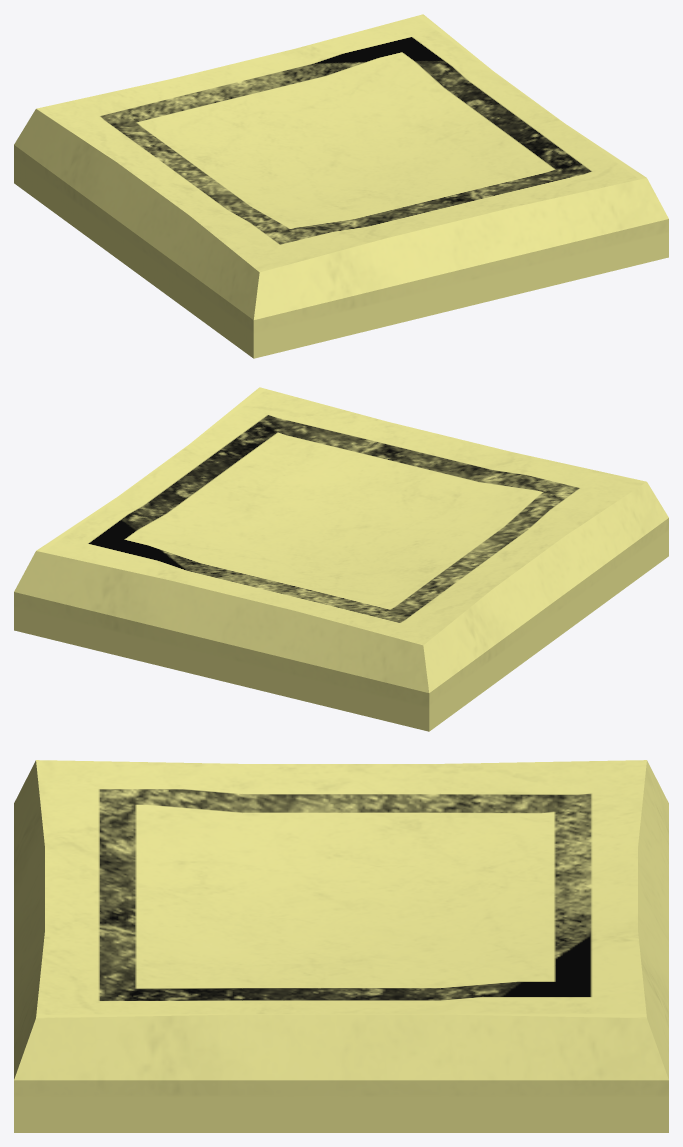
File: SM_ControlPanelButton1.FBX
3 renders of one model, top to bottom at view 1: azimuth 30°, elevation 25°; view 2: azimuth 150°, elevation 25°; view 3: azimuth 270°, elevation 25°, orthographic. The views are drawn at different scales.
Parts seen in each view (by area): view 1: Button_01; view 2: Button_01; view 3: Button_01.
Boxes of the visible parts, x1,y1,x2,y2 form: Button_01: (14,14,668,358); Button_01: (14,387,668,731); Button_01: (14,760,668,1132).
Bounding box in the file's own units: 11.28 × 2 × 11.28.
